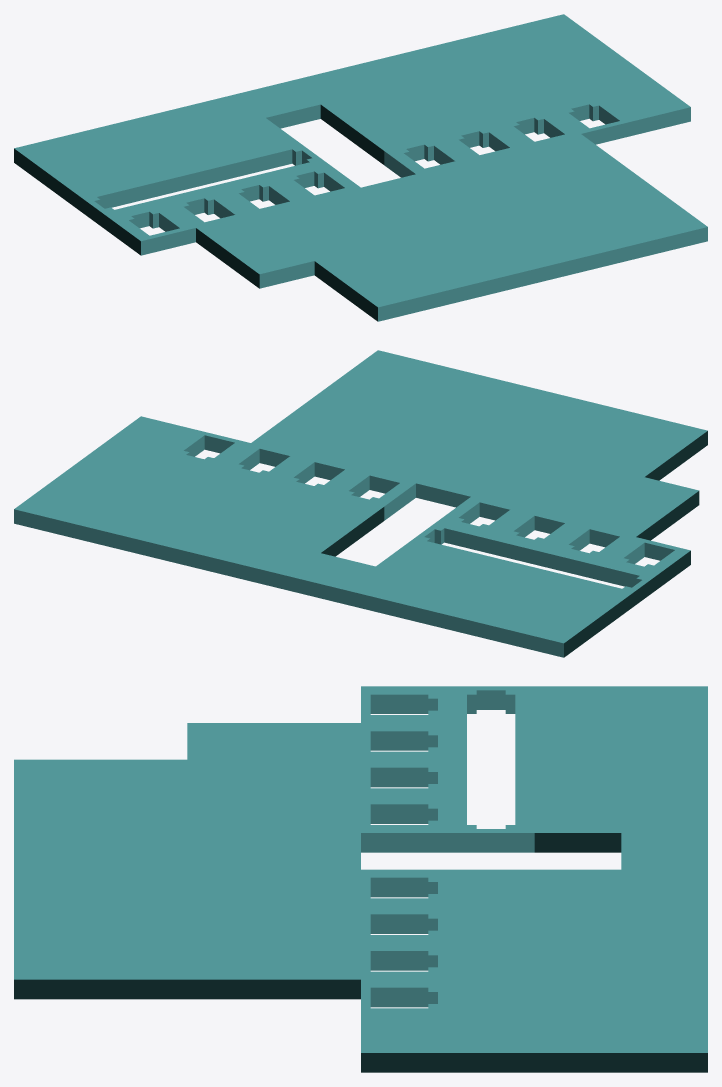
The model's file is cubo_2.FBX.
3 renders of one model, top to bottom at view 1: azimuth 30°, elevation 25°; view 2: azimuth 150°, elevation 25°; view 3: azimuth 270°, elevation 25°, orthographic. The views are drawn at different scales.
Visible parts, largest first — view 1: Box001; view 2: Box001; view 3: Box001.
Boxes of the visible parts, x1,y1,x2,y2 form: Box001: (14, 14, 707, 321); Box001: (14, 350, 707, 657); Box001: (14, 686, 707, 1072).
Bounding box in the file's own units: 10 × 0.25 × 8.
